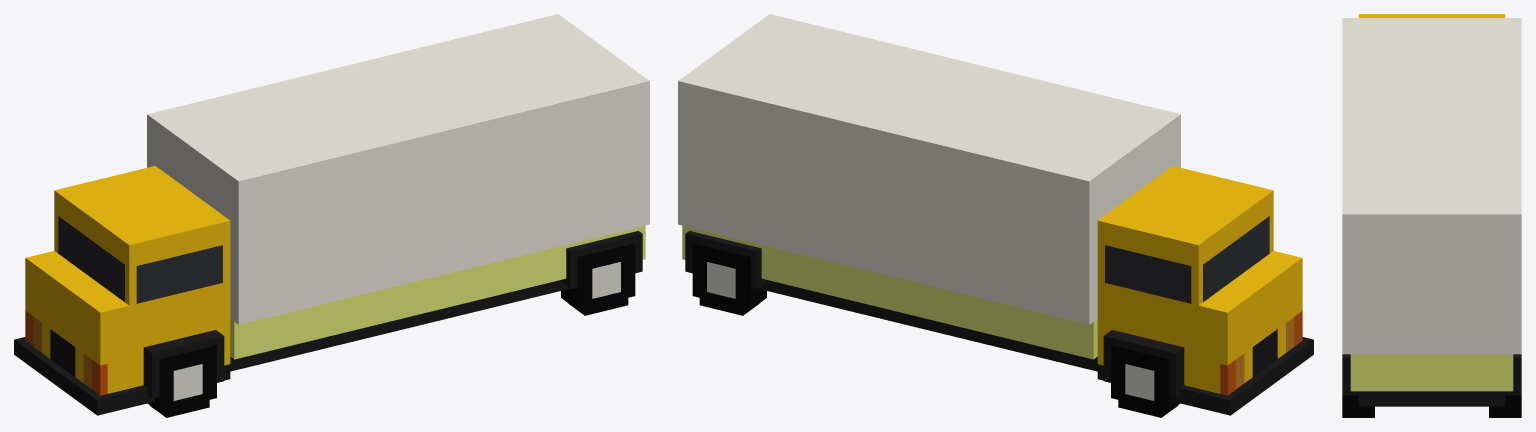
File: car_yellow_len_4.glb
3 views of the same model, side by side, from view 1: azimuth 30°, elevation 25°; view 2: azimuth 150°, elevation 25°; view 3: azimuth 270°, elevation 25° (orthographic). The views are drawn at different scales.
Parts seen in each view (by area): view 1: _0; view 2: _0; view 3: _0.
Part boxes in pixels (x1,y1,x2,y2): _0: (14,14,649,417); _0: (678,14,1313,417); _0: (1342,14,1521,417).
Size of the model in its own units: 0.114 by 0.0435 by 0.033.
